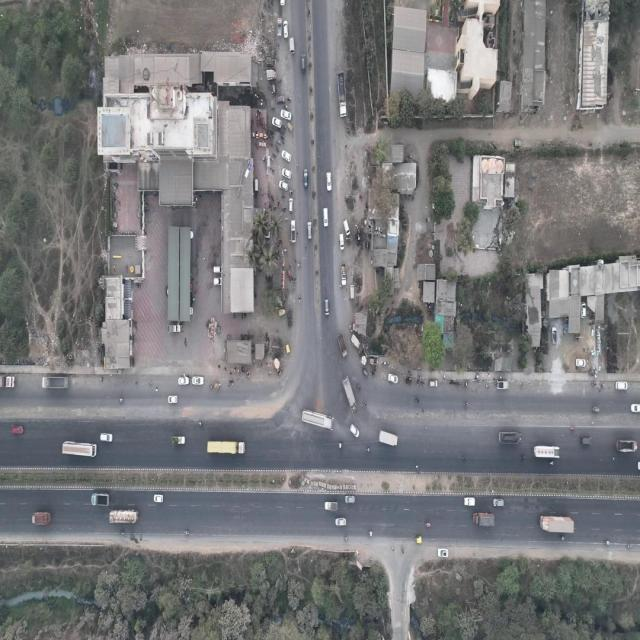3W: (284, 309, 294, 319), (284, 340, 290, 356), (414, 535, 423, 545), (591, 405, 600, 414), (286, 121, 294, 131), (362, 368, 370, 378), (278, 308, 286, 317), (405, 379, 414, 387), (288, 317, 292, 332)
Bus: (302, 406, 336, 433), (62, 438, 99, 459)
Cars: (580, 301, 589, 323), (271, 114, 282, 130), (349, 423, 360, 439), (100, 430, 114, 442), (12, 425, 26, 437), (280, 108, 292, 121), (277, 180, 289, 193), (580, 433, 592, 446), (492, 497, 505, 509), (178, 374, 190, 387), (300, 52, 307, 74), (462, 496, 476, 507), (322, 207, 329, 228), (388, 373, 400, 385), (192, 375, 205, 386), (281, 149, 291, 163), (342, 220, 350, 237), (323, 298, 330, 317), (280, 168, 292, 179), (326, 170, 332, 192), (283, 20, 289, 40), (551, 326, 557, 346), (437, 548, 449, 558), (335, 516, 347, 526), (289, 36, 295, 55), (288, 196, 294, 215), (344, 495, 355, 505), (306, 222, 312, 240), (575, 358, 587, 367), (167, 395, 179, 404), (615, 382, 628, 390), (339, 232, 344, 252), (212, 276, 222, 286), (428, 379, 438, 388), (304, 168, 308, 190), (154, 494, 163, 503), (214, 264, 221, 275), (276, 96, 285, 104)
LCV: (91, 491, 110, 506), (324, 500, 339, 513), (340, 262, 347, 287), (171, 436, 187, 446), (496, 379, 509, 391), (290, 219, 296, 244), (167, 324, 181, 334), (276, 18, 282, 37)
M2W: (625, 542, 633, 550), (603, 539, 611, 546), (461, 454, 468, 462), (413, 397, 421, 404), (355, 382, 362, 390), (569, 425, 576, 432), (361, 400, 367, 408), (183, 530, 190, 536), (367, 530, 373, 537), (559, 535, 565, 542), (298, 295, 302, 305), (198, 422, 204, 428), (343, 536, 349, 542), (391, 544, 395, 553), (463, 402, 469, 408), (297, 263, 303, 269), (338, 442, 343, 449), (365, 448, 372, 452), (426, 522, 430, 529), (120, 398, 124, 404), (520, 455, 526, 459), (402, 544, 404, 555), (120, 531, 124, 536), (550, 462, 555, 466)
MAV: (204, 437, 247, 458)
Truck: (539, 513, 576, 534), (341, 371, 357, 417), (337, 70, 348, 121), (110, 510, 139, 526), (472, 510, 496, 529), (41, 374, 69, 390), (378, 428, 400, 447), (498, 429, 522, 446), (534, 444, 562, 458), (615, 439, 638, 453), (29, 512, 52, 525), (338, 332, 348, 360)
